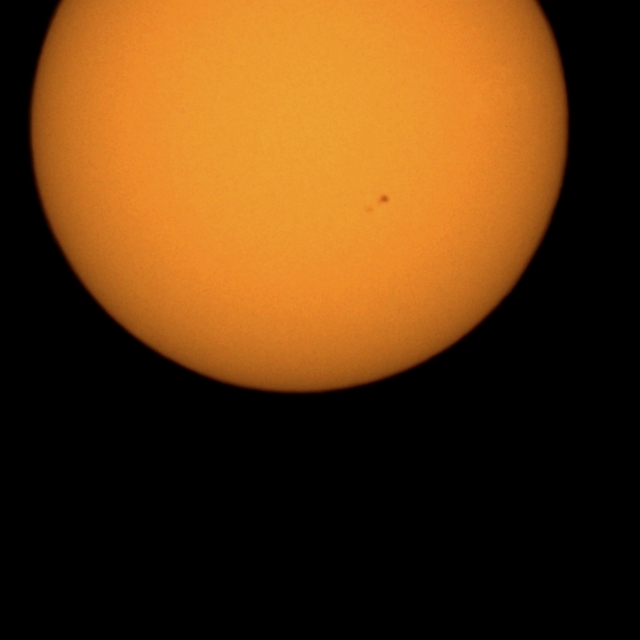sunspot: (365, 192, 390, 214), (378, 193, 391, 206)
